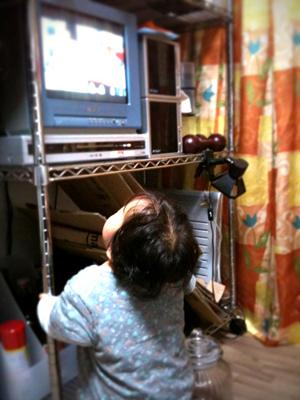person: (36, 193, 196, 398)
